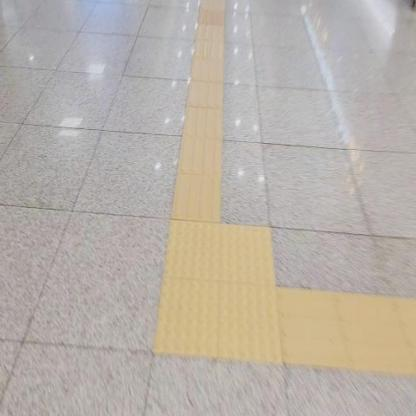podotacti: (132, 188, 295, 394), (280, 288, 416, 380), (171, 0, 227, 214)
